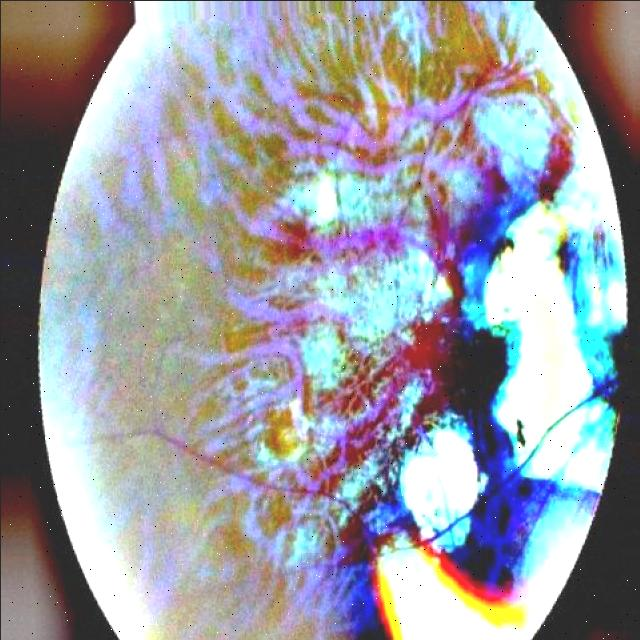Nerves: (235, 63, 571, 300), (233, 411, 573, 633), (227, 287, 349, 440)
